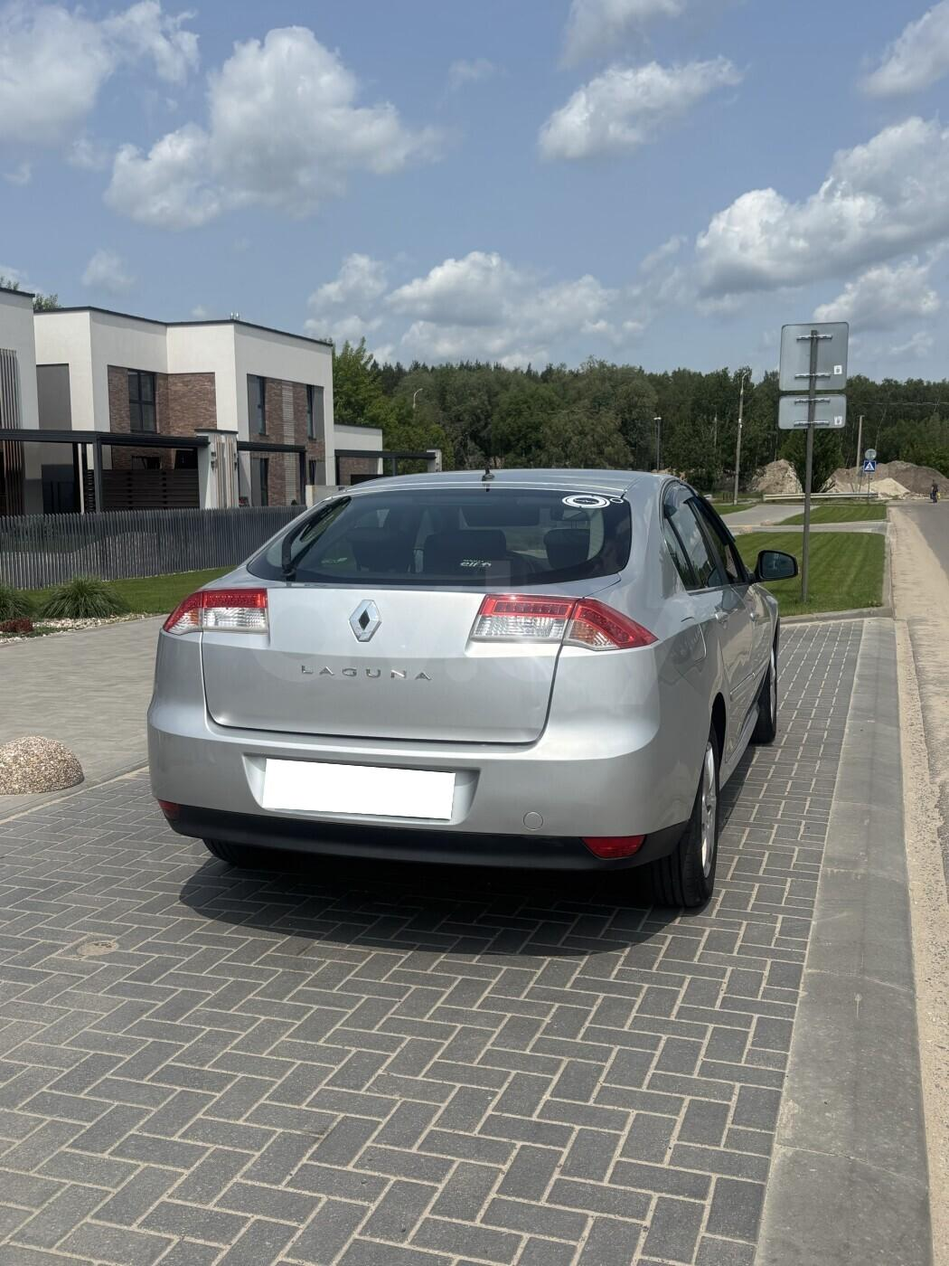Laguna_2007-2011: (148, 470, 796, 906)
